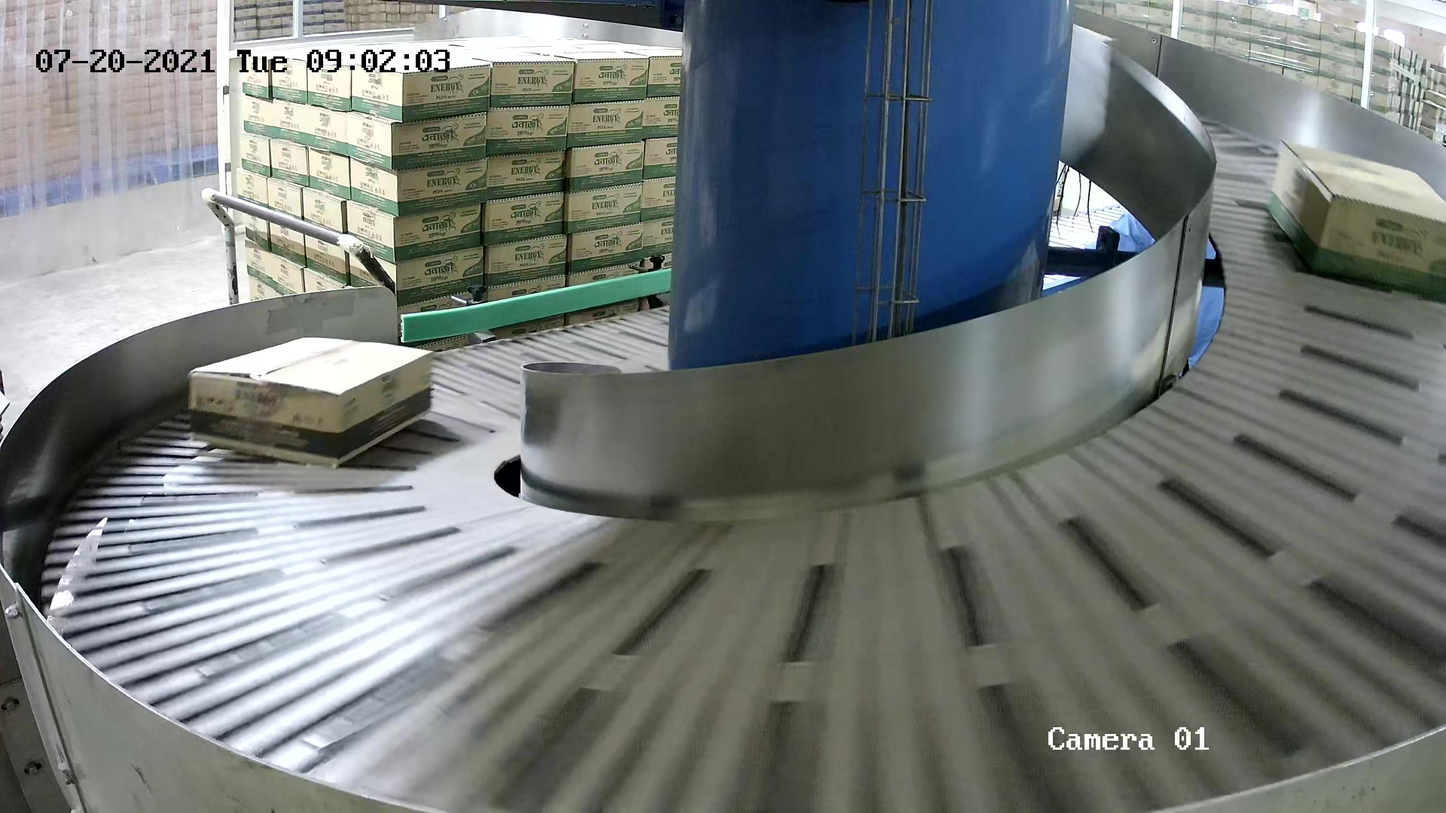Box: (187, 335, 435, 469), (1264, 138, 1446, 298)
